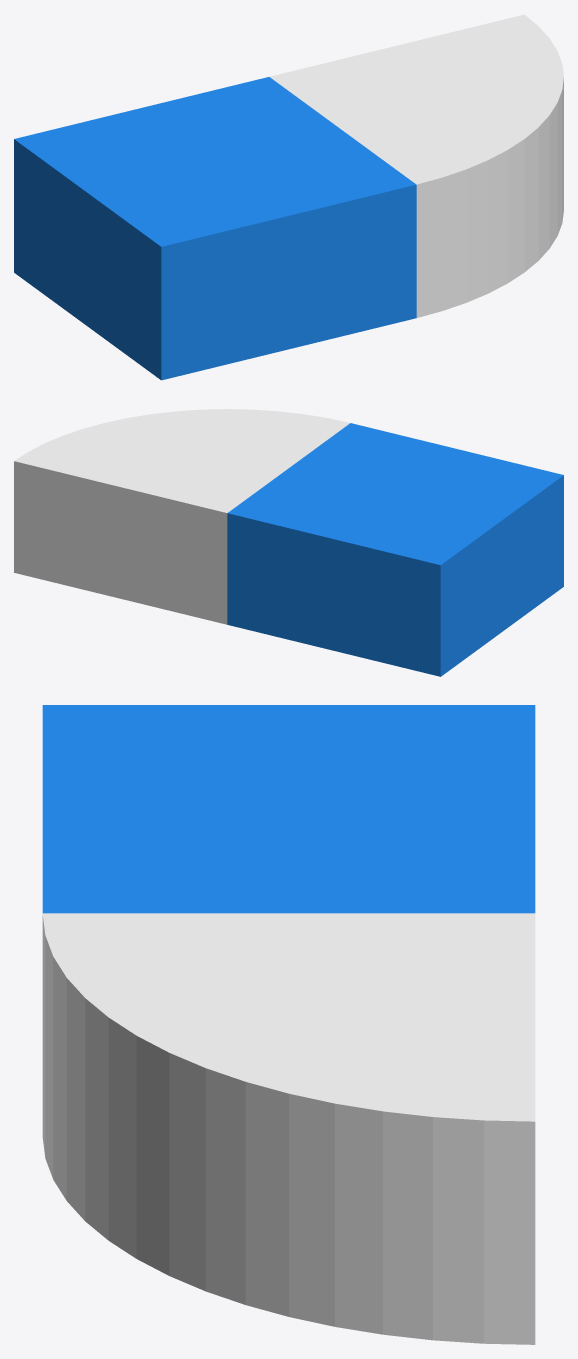
Rendered from p_tamanC.fbx.
3 renders of one model, top to bottom at view 1: azimuth 30°, elevation 25°; view 2: azimuth 150°, elevation 25°; view 3: azimuth 270°, elevation 25°, orthographic. The views are drawn at different scales.
Visible parts, largest first — view 1: Cube.001; view 2: Cube.001; view 3: Cube.001.
Part boxes in pixels (x1=…): Cube.001: x1=14, y1=14, x2=563, y2=380; Cube.001: x1=14, y1=409, x2=563, y2=676; Cube.001: x1=42, y1=705, x2=535, y2=1344.
Size of the model in its own units: 200 by 50 by 100.
